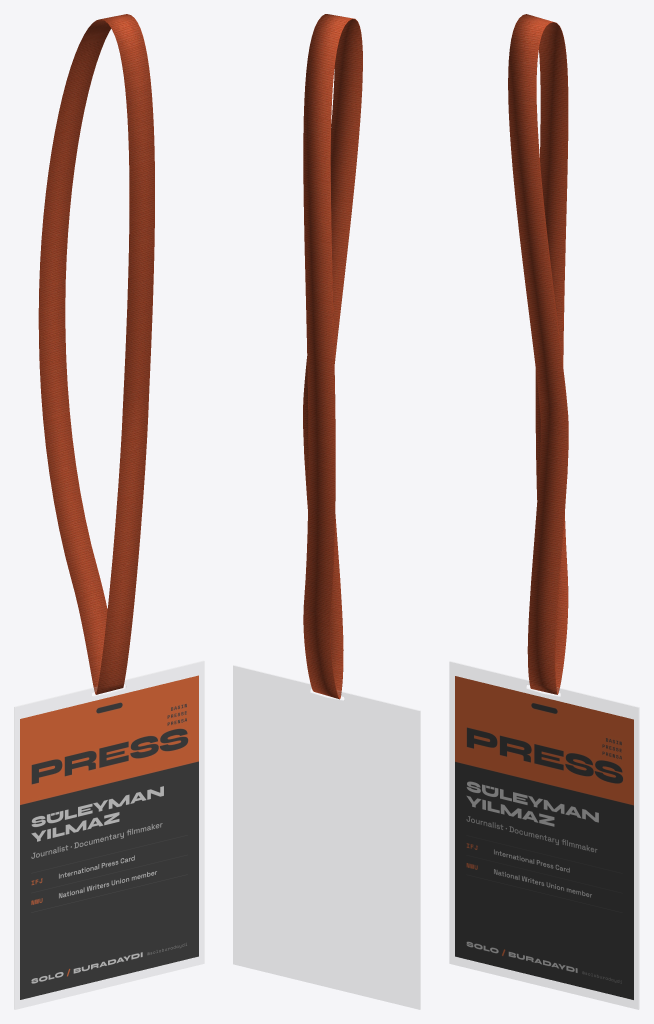
File: card.glb
3 views of the same model, side by side, from view 1: azimuth 30°, elevation 25°; view 2: azimuth 150°, elevation 25°; view 3: azimuth 330°, elevation 25° (orthographic).
Parts seen in each view (by area): view 1: holder, face, ribbon; view 2: holder, ribbon; view 3: holder, face, ribbon.
Boxes of the visible parts, <box> form: holder: <box>14,661,204,1009</box>; face: <box>20,675,198,999</box>; ribbon: <box>38,14,154,694</box>; holder: <box>233,665,420,1009</box>; ribbon: <box>303,14,362,699</box>; holder: <box>449,661,639,1009</box>; face: <box>455,676,633,999</box>; ribbon: <box>508,14,568,694</box>.
Size of the model in its own units: 0.2033 by 1 by 0.1101.
3 materials, 2 textured.
